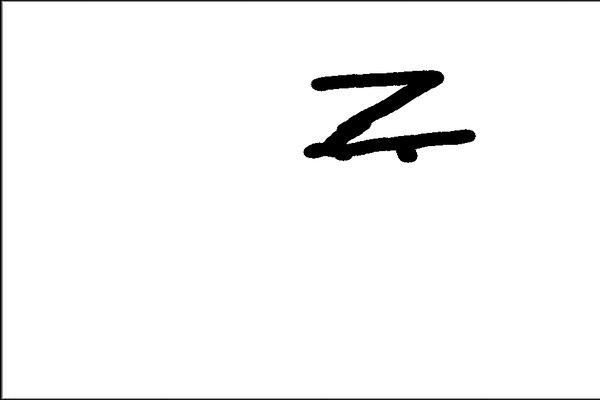Z: (296, 58, 484, 169)
